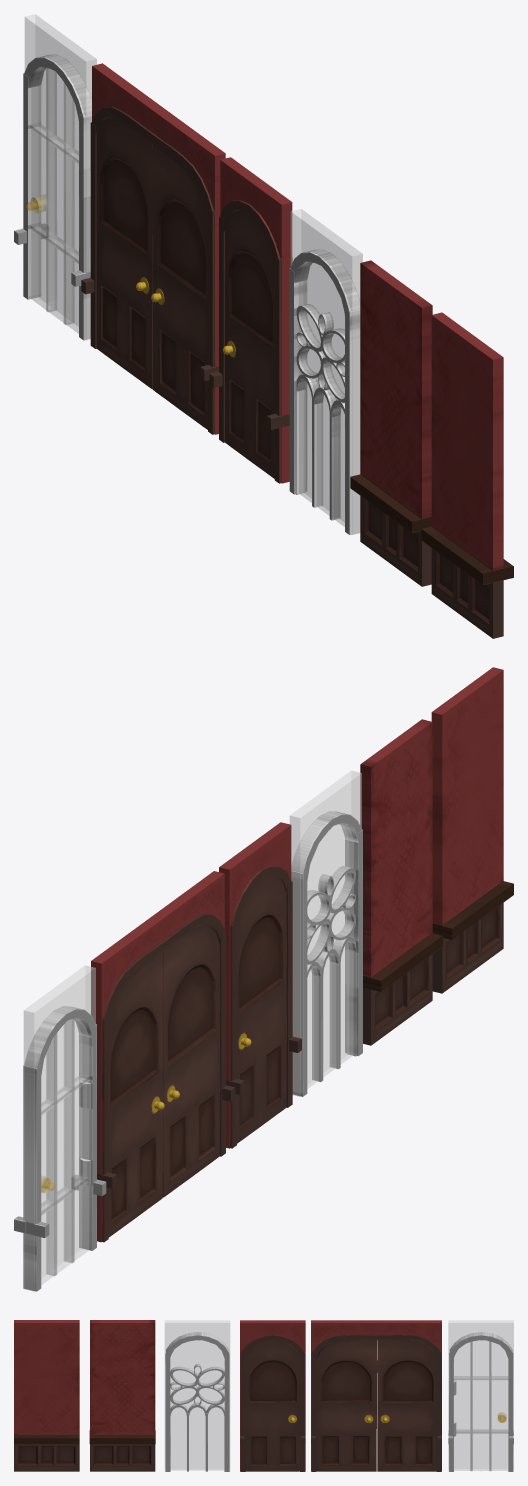
The picture shows the model from 3 angles, top to bottom: view 1: azimuth 30°, elevation 25°; view 2: azimuth 150°, elevation 25°; view 3: azimuth 270°, elevation 25°; orthographic projection. The views are drawn at different scales.
Parts seen in each view (by area): view 1: Wall1, Wall2, GlassWall_Metal, DoubleDoors_Door2, DoubleDoors_Door1, GlassWall_Glass, Door1_Door, GlassDoor_Door, DoubleDoors_Wall, Door1_Wall, GlassDoor_Metal, GlassDoor_Glass; view 2: Wall1, Wall2, GlassWall_Metal, DoubleDoors_Door1, GlassWall_Glass, DoubleDoors_Door2, Door1_Door, GlassDoor_Door, DoubleDoors_Wall, GlassDoor_Metal, Door1_Wall, GlassDoor_Glass; view 3: Wall2, Wall1, GlassWall_Glass, DoubleDoors_Door1, DoubleDoors_Door2, Door1_Door, GlassDoor_Door, DoubleDoors_Wall, GlassWall_Metal, Door1_Wall, GlassDoor_Metal, GlassDoor_Glass.
Boxes of the visible parts, <box> form: Wall1: <box>421,312,513,638</box>; Wall2: <box>350,260,432,586</box>; GlassWall_Metal: <box>289,249,360,534</box>; DoubleDoors_Door2: <box>96,117,152,389</box>; DoubleDoors_Door1: <box>151,144,207,429</box>; GlassWall_Glass: <box>290,209,362,534</box>; Door1_Door: <box>222,210,274,478</box>; GlassDoor_Door: <box>26,67,78,333</box>; DoubleDoors_Wall: <box>81,63,225,434</box>; Door1_Wall: <box>209,157,292,483</box>; GlassDoor_Metal: <box>14,54,91,340</box>; GlassDoor_Glass: <box>24,14,96,340</box>; Wall1: <box>431,667,513,993</box>; Wall2: <box>360,719,442,1045</box>; GlassWall_Metal: <box>291,811,362,1096</box>; DoubleDoors_Door1: <box>162,924,219,1197</box>; GlassWall_Glass: <box>289,770,361,1096</box>; DoubleDoors_Door2: <box>108,952,164,1237</box>; Door1_Door: <box>237,875,286,1143</box>; GlassDoor_Door: <box>41,1018,89,1284</box>; DoubleDoors_Wall: <box>91,871,235,1242</box>; GlassDoor_Metal: <box>14,1006,106,1291</box>; Door1_Wall: <box>219,822,301,1148</box>; GlassDoor_Glass: <box>23,965,95,1291</box>; Wall2: <box>89,1320,155,1471</box>; Wall1: <box>14,1320,79,1471</box>; GlassWall_Glass: <box>164,1320,230,1470</box>; DoubleDoors_Door1: <box>316,1340,376,1471</box>; DoubleDoors_Door2: <box>377,1339,436,1471</box>; Door1_Door: <box>245,1340,299,1471</box>; GlassDoor_Door: <box>454,1340,508,1471</box>; DoubleDoors_Wall: <box>311,1320,441,1471</box>; GlassWall_Metal: <box>165,1332,229,1471</box>; Door1_Wall: <box>240,1320,305,1471</box>; GlassDoor_Metal: <box>448,1332,513,1471</box>; GlassDoor_Glass: <box>448,1320,513,1471</box>.
Size of the model in its own units: 0.5816 by 5.01 by 15.24.
2 materials, 2 textured.
